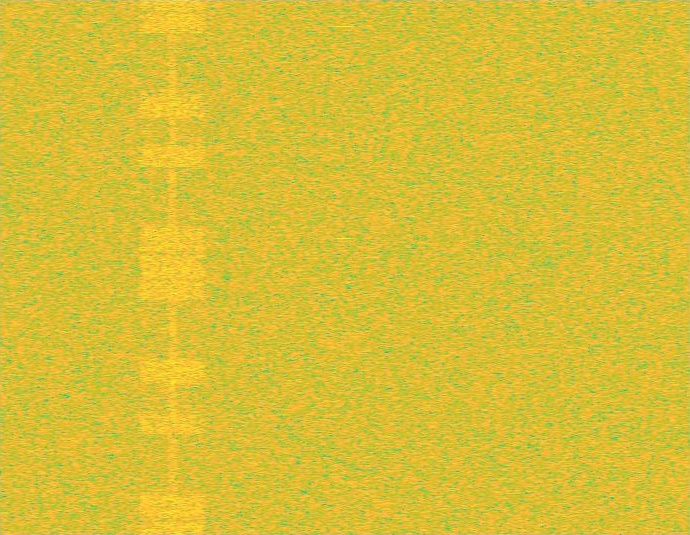DSSS: (168, 0, 177, 534)
LTE: (138, 0, 207, 534)
Radar: (336, 0, 350, 534)
